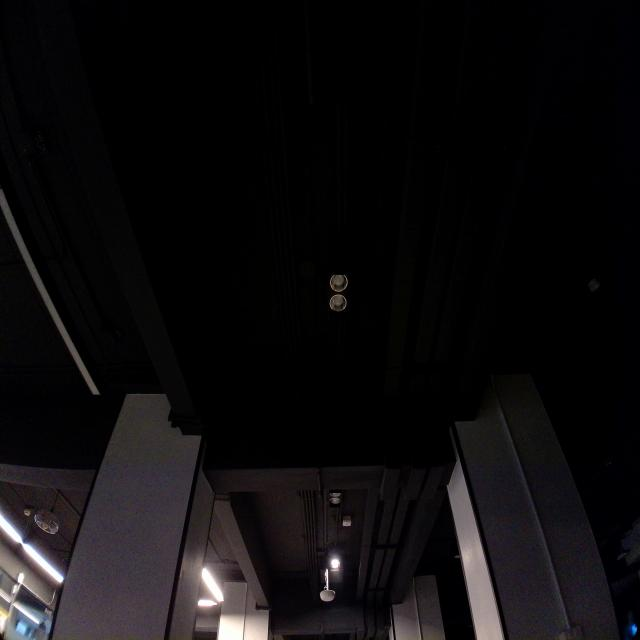lamp1_off: (315, 253, 363, 332)
